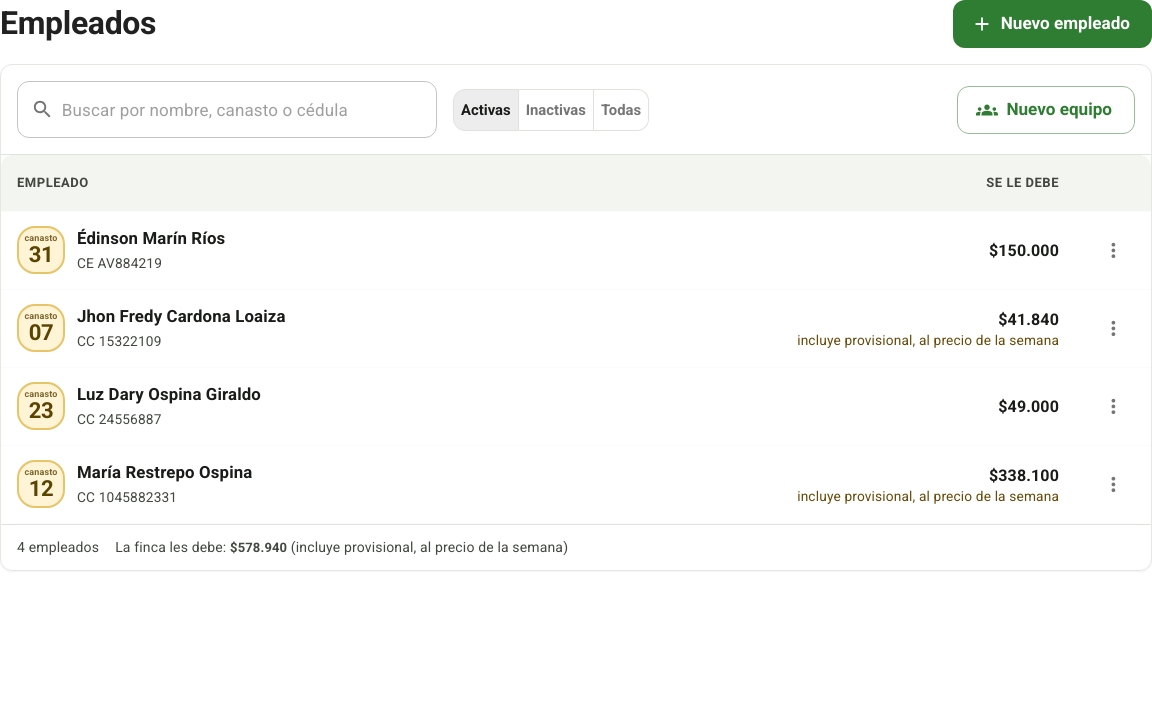
Scenario: taking somebody off the payroll and back › says why a deactivation was refused, and the message closes
Click the button named "Acciones de María" at (1113, 484), box [1091,462,1135,506]
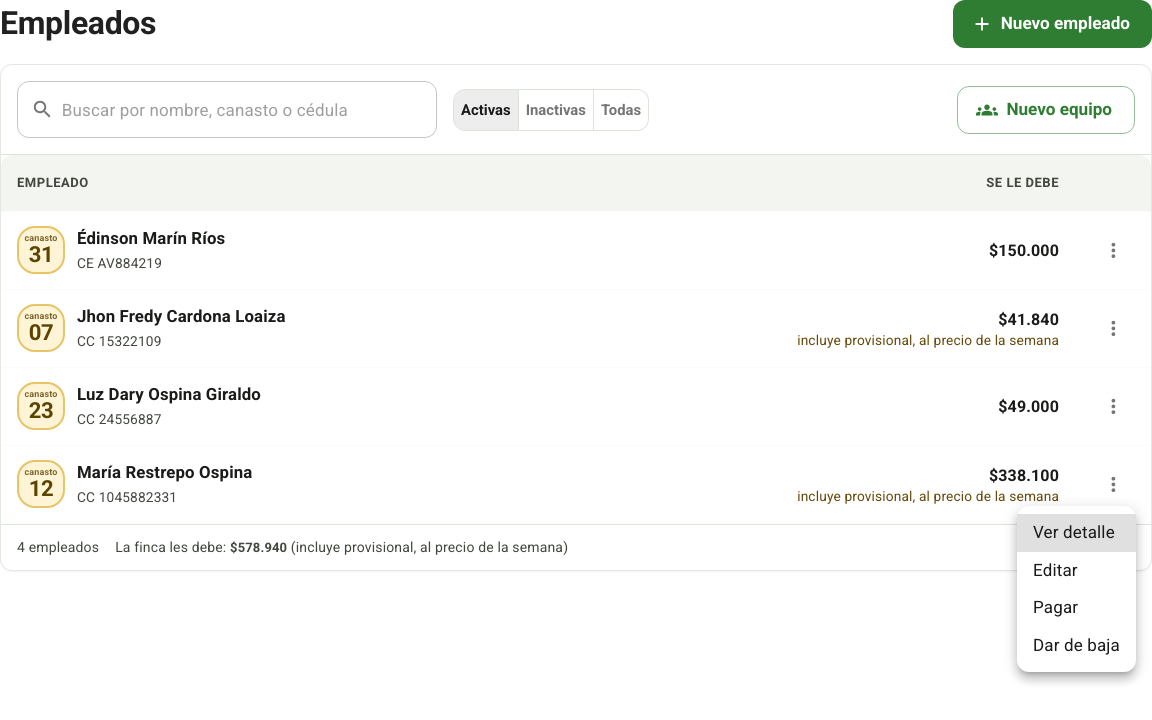
Click the menu item "Dar de baja" at (1076, 644), box [1033,634,1120,654]
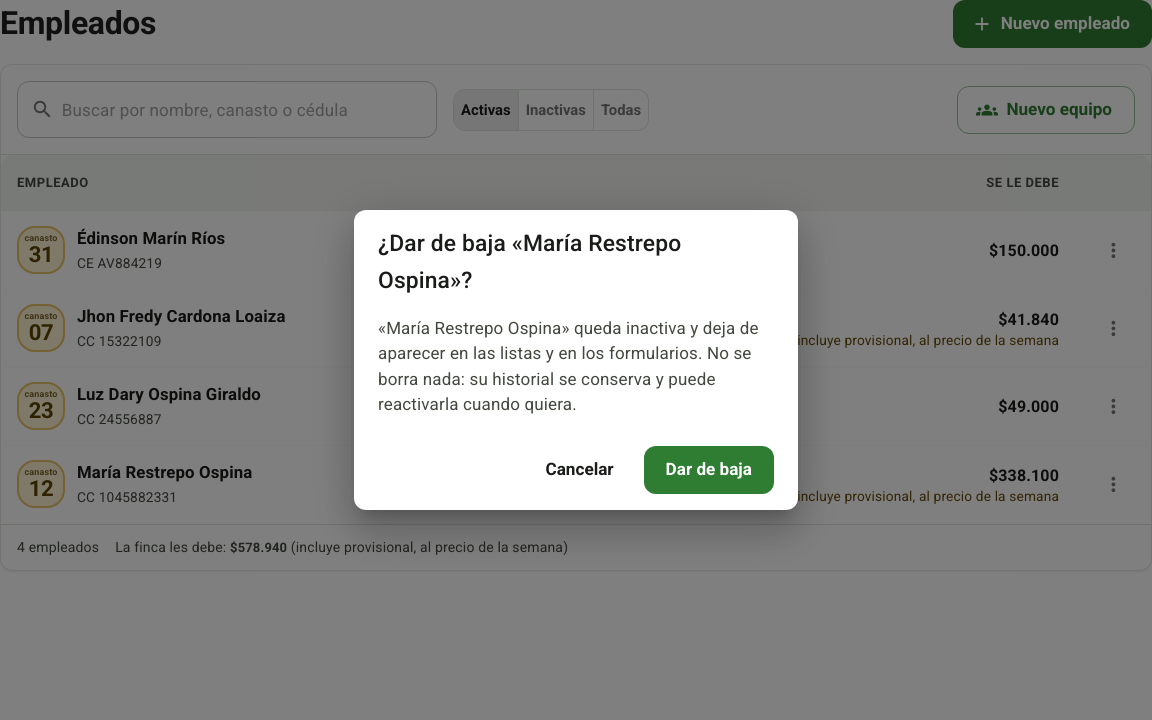
Click the button "Dar de baja" at (709, 470), box [644,446,774,494]
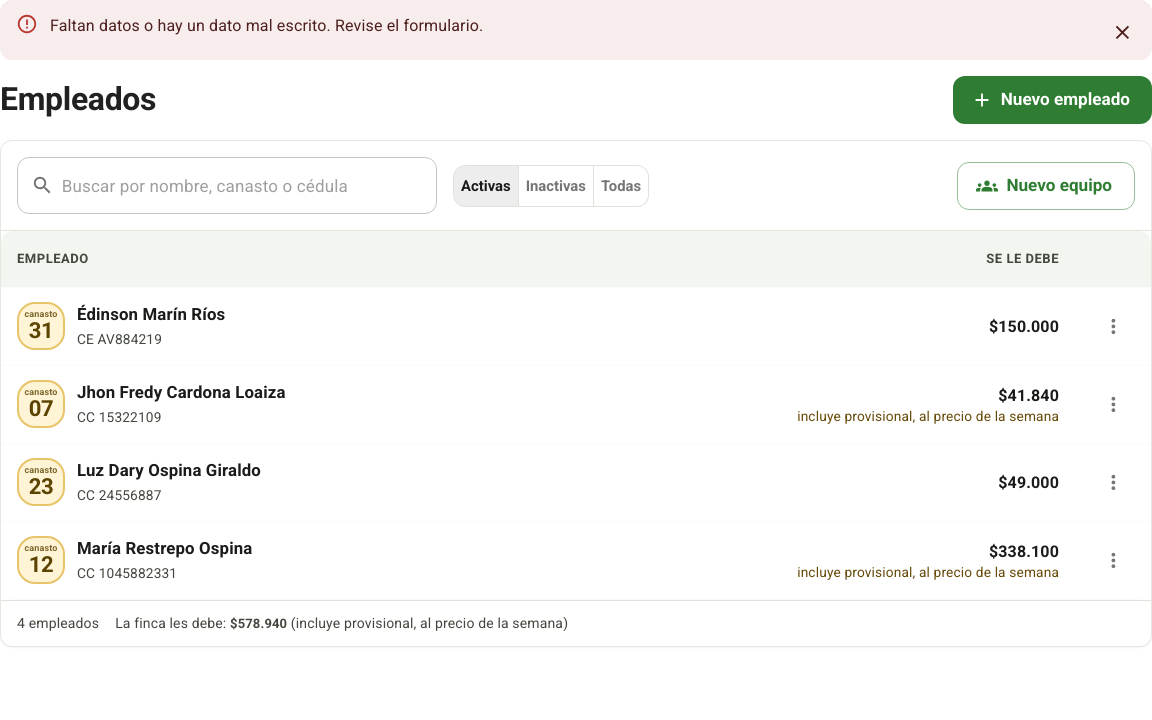
Now the message "Faltan datos o hay un dato mal escrito. Revise el formulario." is shown, box [0,0,1151,60]
Click the button named "Cerrar" at (1122, 32), box [1100,10,1144,54]
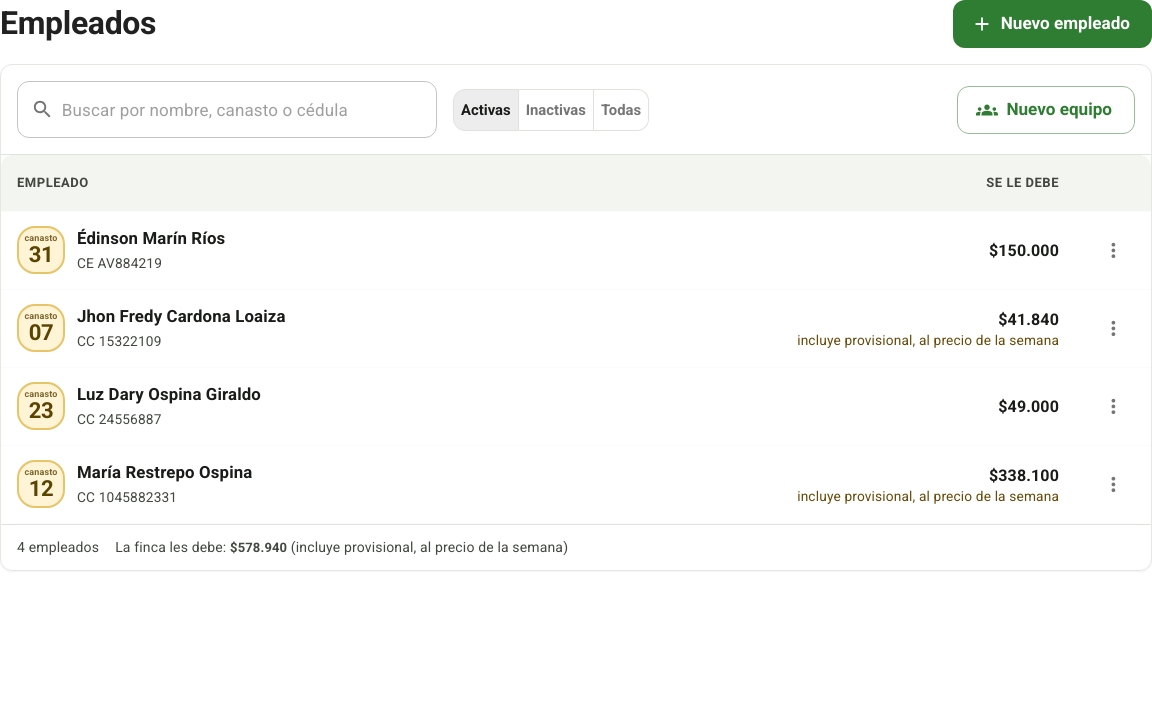
Now the message "Faltan datos o hay un dato mal escrito. Revise el formulario." is gone
